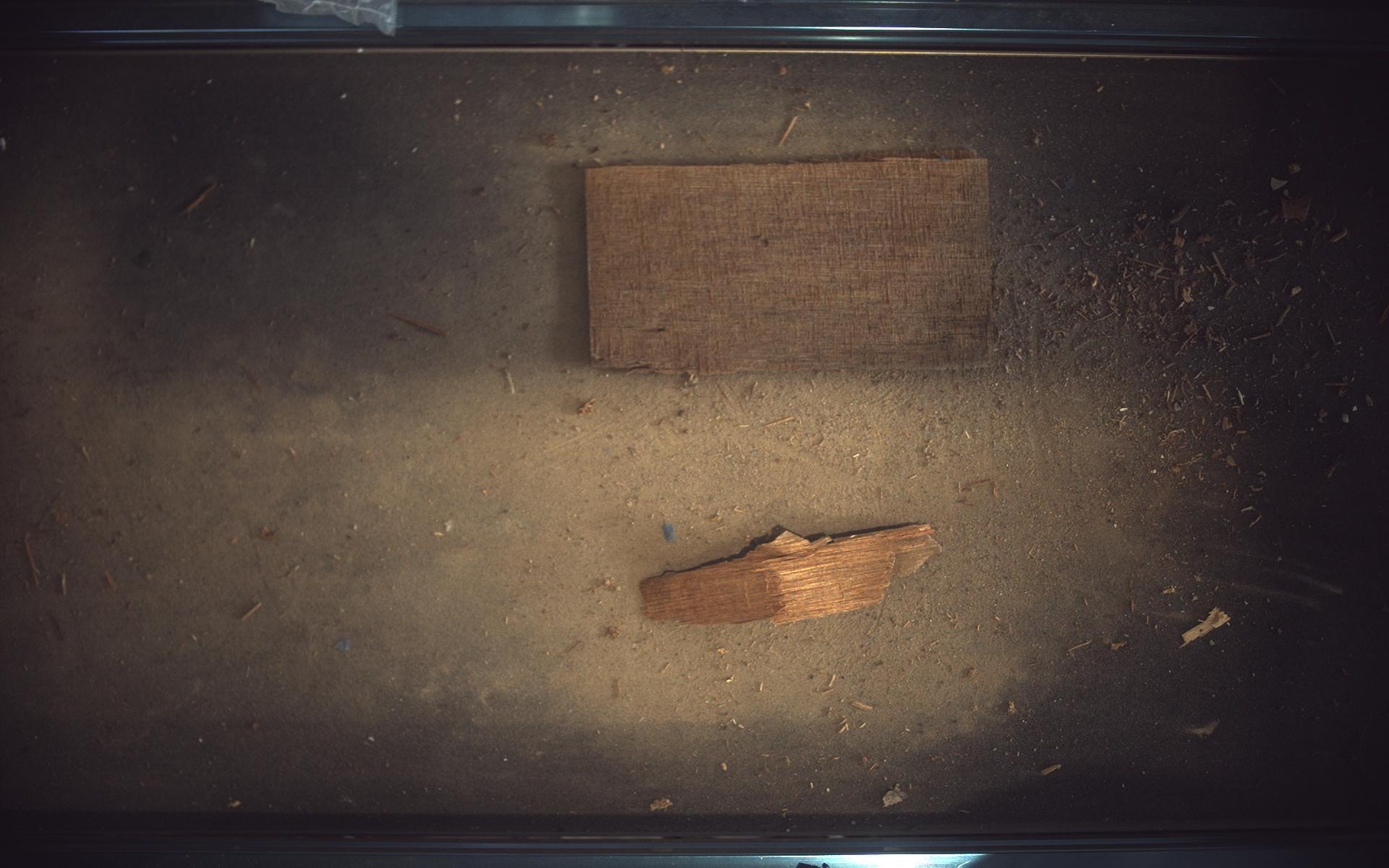wood: (587, 153, 994, 375), (642, 525, 943, 625)
